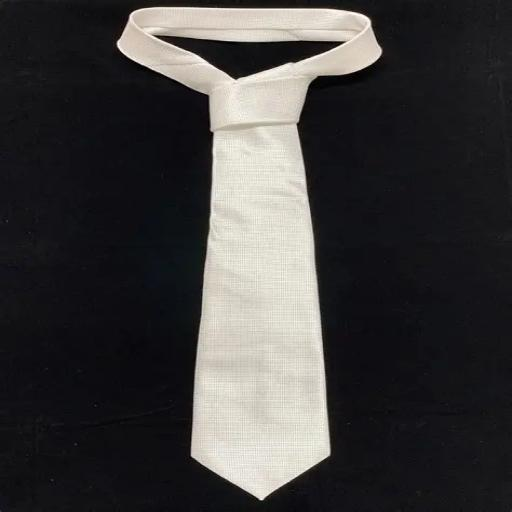tie: (114, 6, 382, 500)
